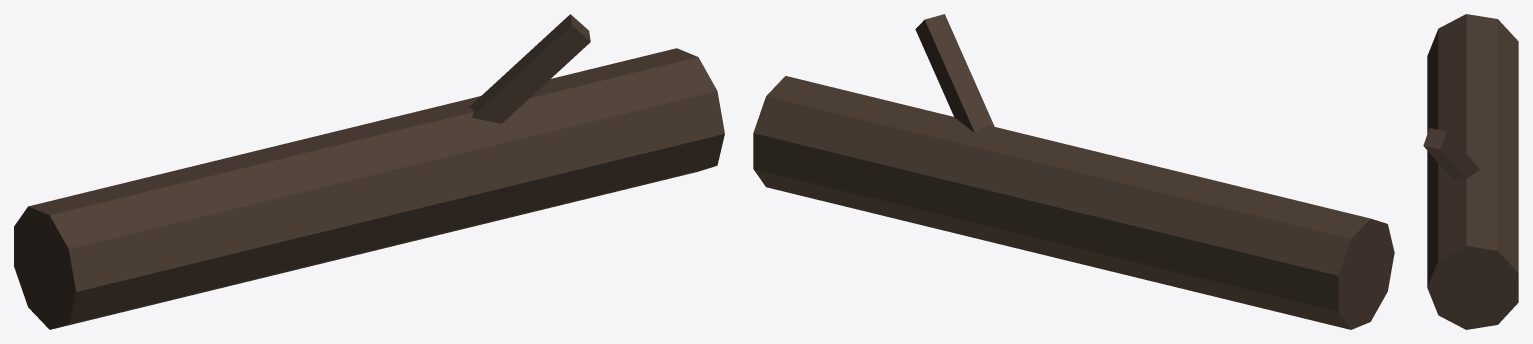
File: log_fallen.fbx
3 renders of one model, left to right at view 1: azimuth 30°, elevation 25°; view 2: azimuth 150°, elevation 25°; view 3: azimuth 270°, elevation 25°, orthographic. The views are drawn at different scales.
Visible parts, largest first — view 1: log_fallen; view 2: log_fallen; view 3: log_fallen.
Boxes of the visible parts, x1=… form: log_fallen: x1=14, y1=14, x2=724, y2=329; log_fallen: x1=753, y1=14, x2=1394, y2=329; log_fallen: x1=1423, y1=14, x2=1518, y2=329.
Size of the model in its own units: 1400 by 416 by 243.
